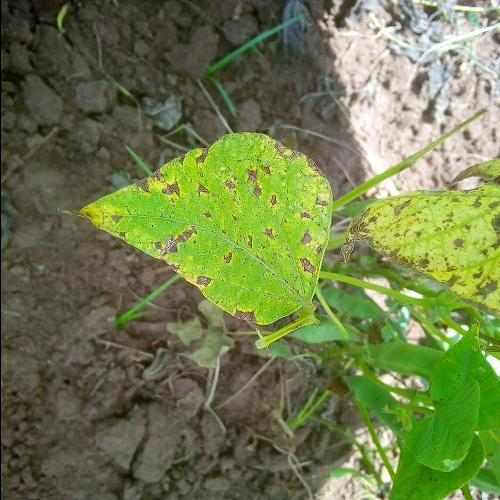hawar: (80, 131, 332, 327)
